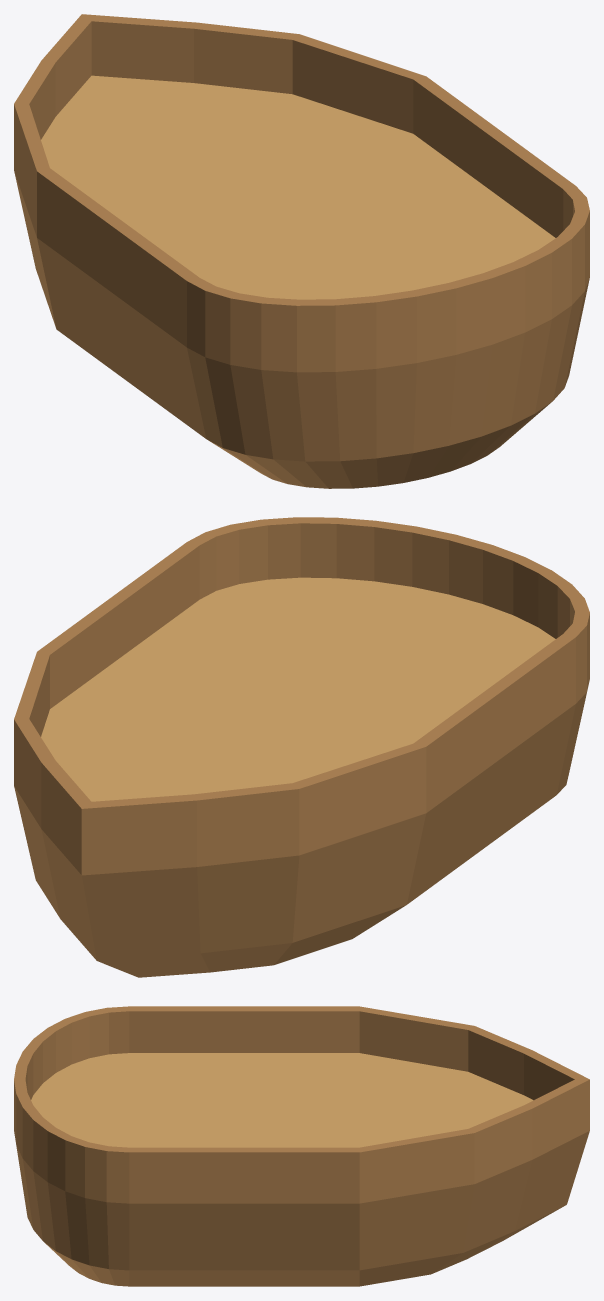
The model's file is SINGLE_DECK.glb.
3 views of the same model, one above another, from view 1: azimuth 30°, elevation 25°; view 2: azimuth 150°, elevation 25°; view 3: azimuth 270°, elevation 25° (orthographic). The views are drawn at different scales.
Size of the model in its own units: 6 by 3.4 by 10.
